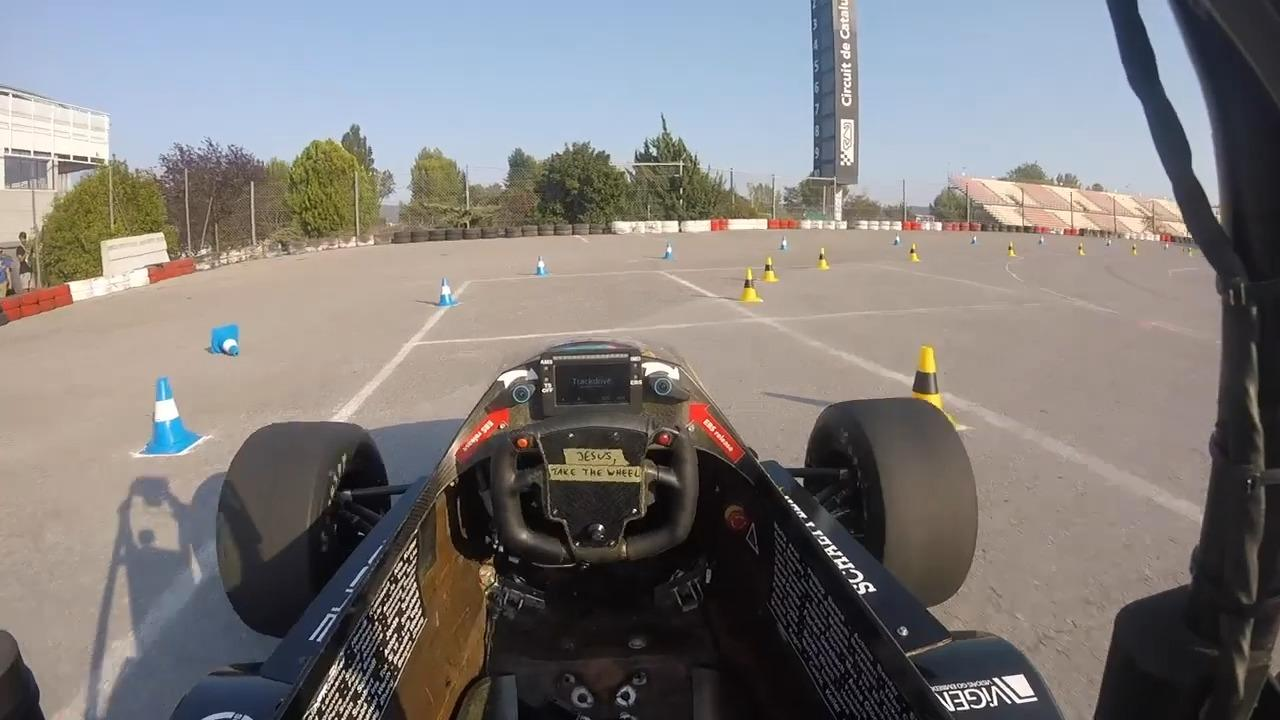blue_cone: (135, 370, 206, 464), (206, 321, 247, 361), (434, 274, 457, 309), (533, 255, 550, 277), (662, 239, 676, 262), (777, 235, 789, 252), (892, 231, 903, 246), (971, 233, 978, 247)
yellow_cone: (913, 340, 960, 410), (738, 266, 762, 304), (761, 254, 778, 285), (815, 245, 831, 273), (909, 242, 922, 264), (1007, 239, 1018, 257), (1077, 242, 1086, 256), (1131, 242, 1139, 256)
